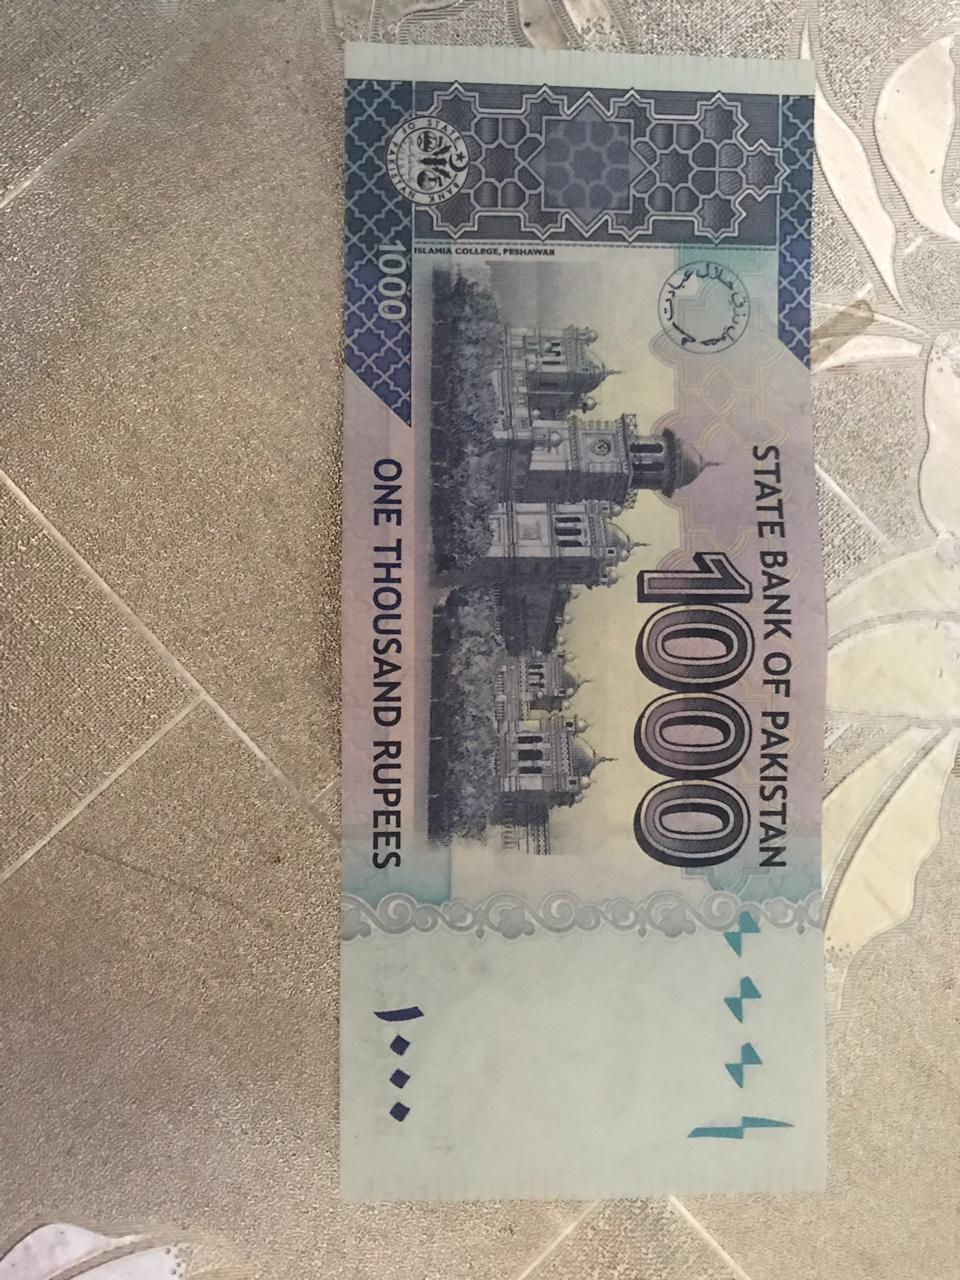1000 rupee: (301, 16, 889, 1245)
